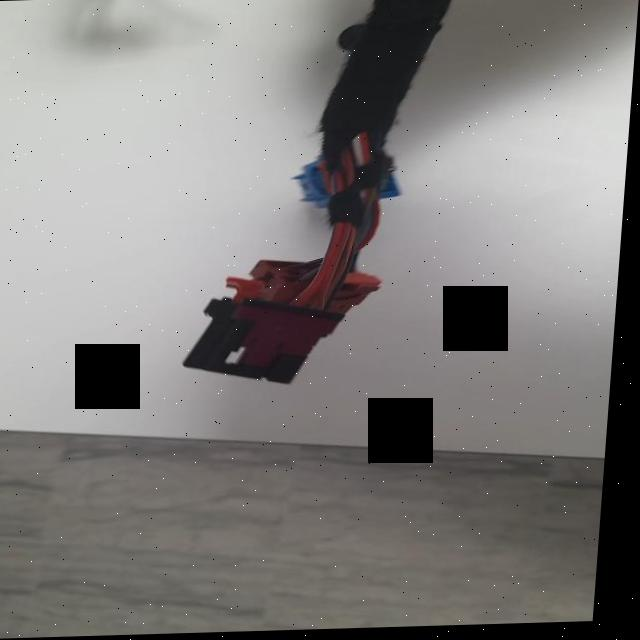cable: (321, 0, 452, 247)
connector: (189, 225, 384, 385)
